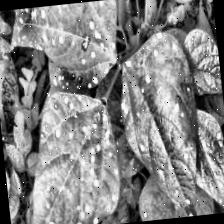Bean Rust: (113, 13, 204, 222), (21, 86, 124, 224), (14, 0, 124, 97), (189, 106, 224, 213), (180, 26, 222, 99)
